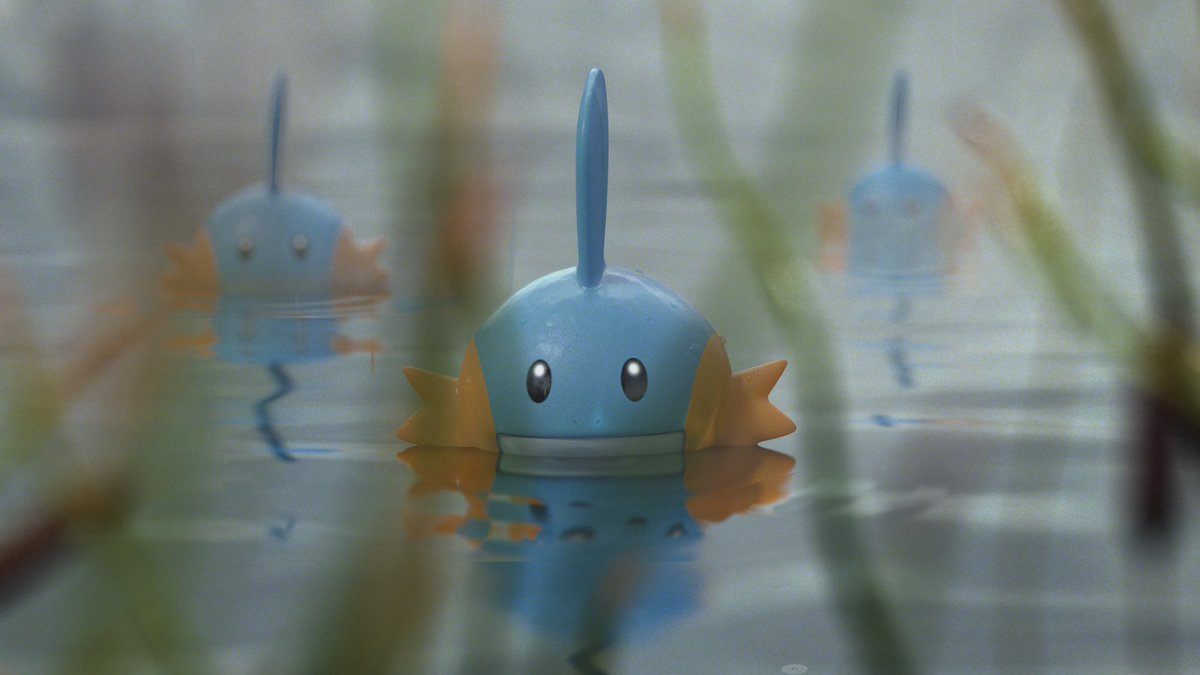mudkip: (393, 72, 813, 486), (160, 57, 392, 329), (819, 61, 987, 277)
